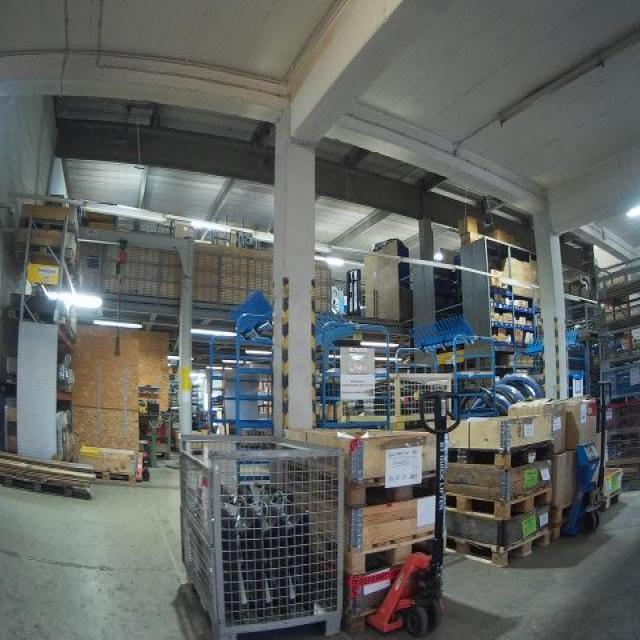pallet: (447, 437, 554, 516), (347, 528, 447, 575), (350, 592, 448, 637), (448, 526, 548, 564), (345, 469, 446, 506), (0, 474, 74, 499), (19, 213, 74, 232), (15, 242, 73, 259), (96, 473, 136, 481)
pallet_truck: (368, 387, 464, 633), (561, 375, 611, 545), (134, 372, 160, 493)
stillage: (177, 426, 349, 639), (595, 357, 638, 398), (599, 433, 638, 470), (599, 398, 638, 429)
